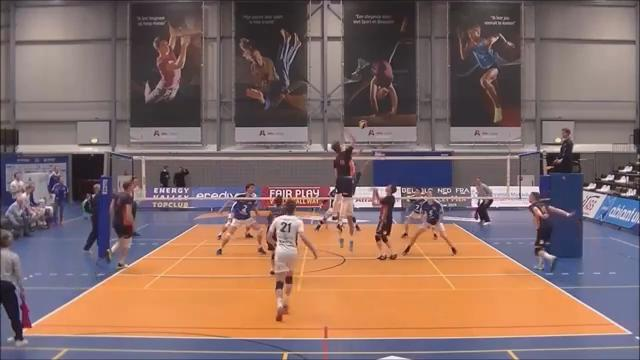attacco: (327, 127, 357, 232)
